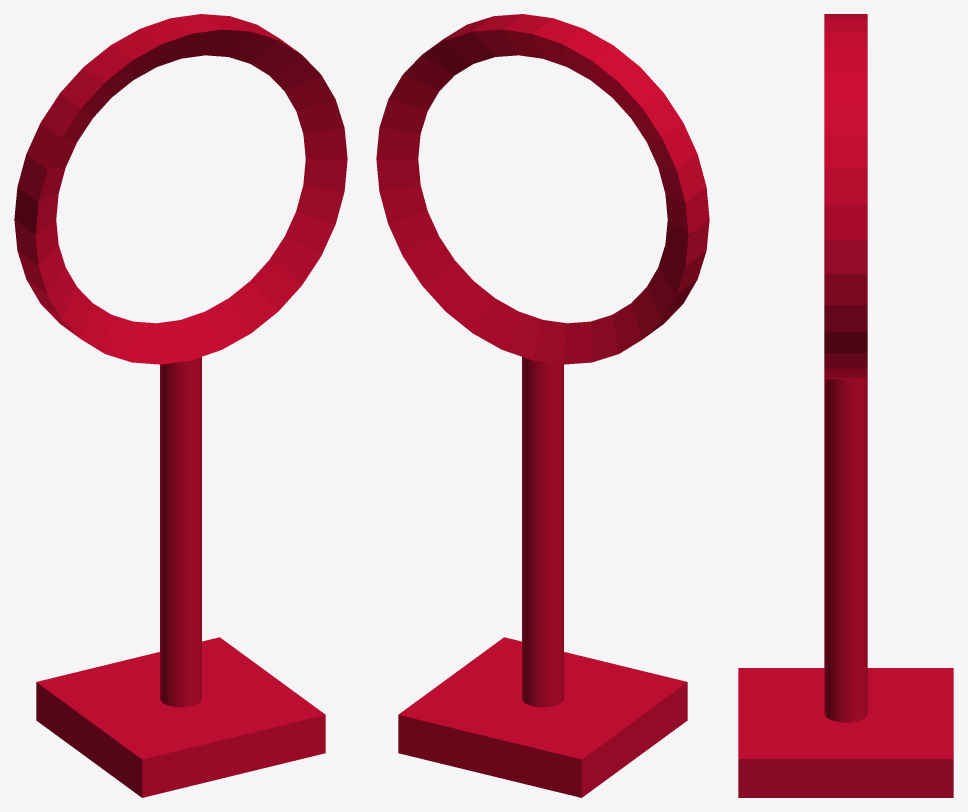
The model's file is yuanhuan.dae.
3 views of the same model, side by side, from view 1: azimuth 30°, elevation 25°; view 2: azimuth 150°, elevation 25°; view 3: azimuth 270°, elevation 25° (orthographic).
Visible parts, largest first — view 1: 立方体; view 2: 立方体; view 3: 立方体.
Boxes of the visible parts, x1=… form: 立方体: x1=14, y1=14, x2=347, y2=797; 立方体: x1=376, y1=14, x2=709, y2=797; 立方体: x1=738, y1=14, x2=953, y2=797.
Bounding box in the file's own units: 1.7 × 1 × 3.7.
